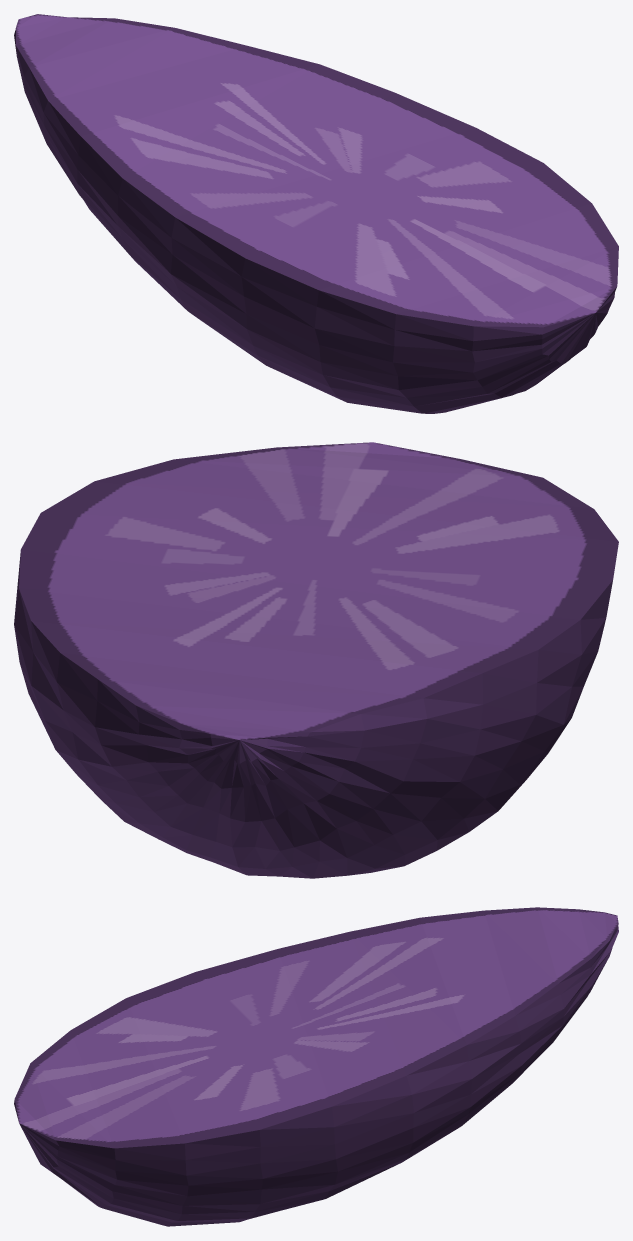
File: sweetpotato.glb
3 views of the same model, one above another, from view 1: azimuth 30°, elevation 25°; view 2: azimuth 150°, elevation 25°; view 3: azimuth 270°, elevation 25° (orthographic). The views are drawn at different scales.
Bounding box in the file's own units: 1.06 × 0.6463 × 1.61.
2 materials, 1 textured.
